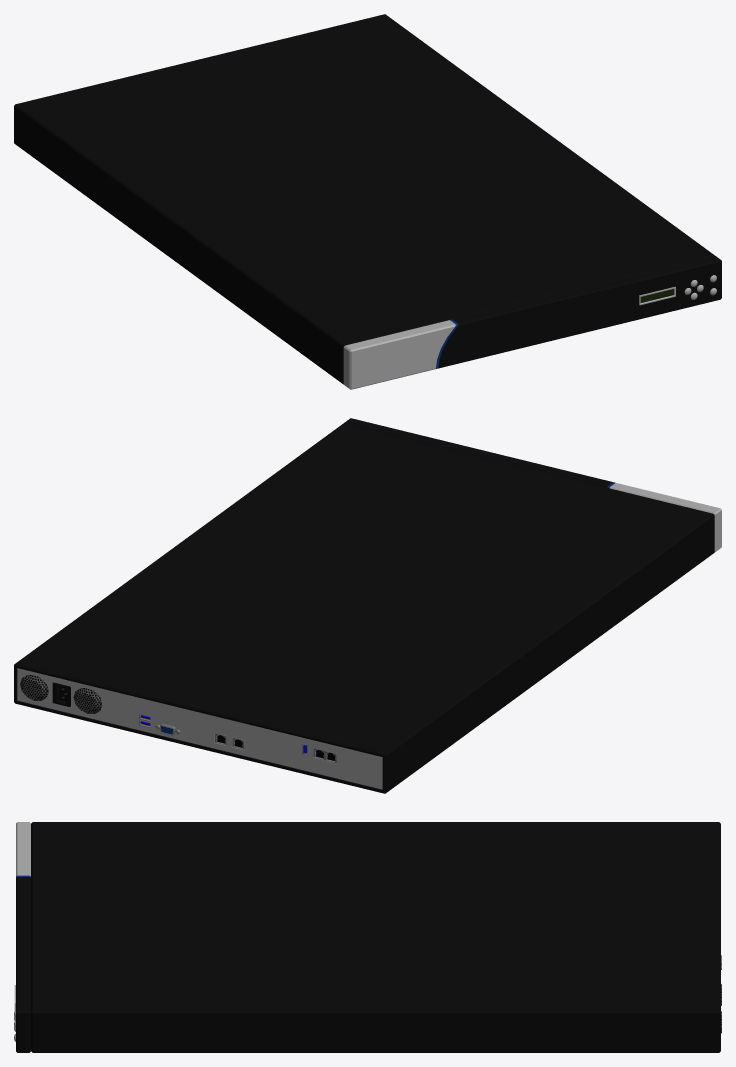
Rendered from BlueCoat_SG510-20-M5.fbx.
The picture shows the model from 3 angles, top to bottom: view 1: azimuth 30°, elevation 25°; view 2: azimuth 150°, elevation 25°; view 3: azimuth 270°, elevation 25°; orthographic projection. The views are drawn at different scales.
Visible parts, largest first — view 1: BlueCoat_SG510-20-M5; view 2: BlueCoat_SG510-20-M5; view 3: BlueCoat_SG510-20-M5.
Part boxes in pixels (x1,y1,x2,y2): BlueCoat_SG510-20-M5: [14, 14, 721, 389]; BlueCoat_SG510-20-M5: [14, 418, 721, 793]; BlueCoat_SG510-20-M5: [14, 822, 721, 1052].
Size of the model in its own units: 434 by 44.5 by 683.
Materials: 10 (1 with a texture image).
